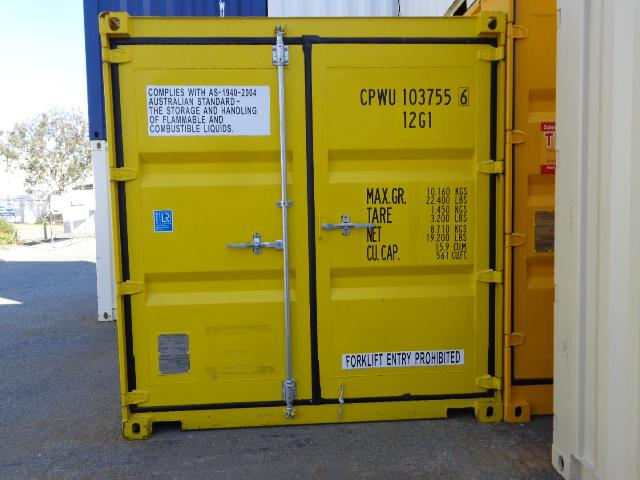ContainerNum: (358, 85, 471, 130)
